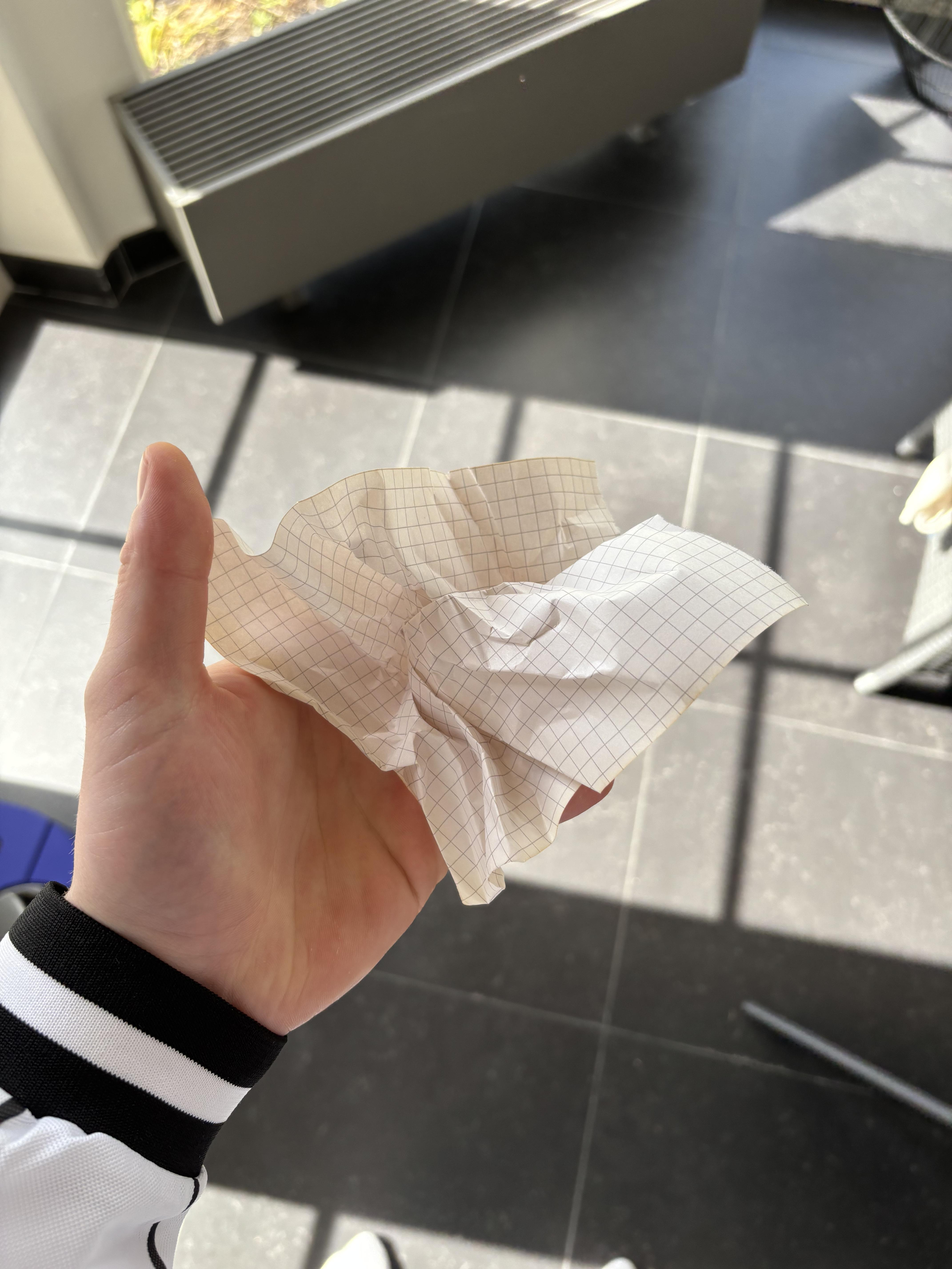Paper: (196, 449, 813, 910)
